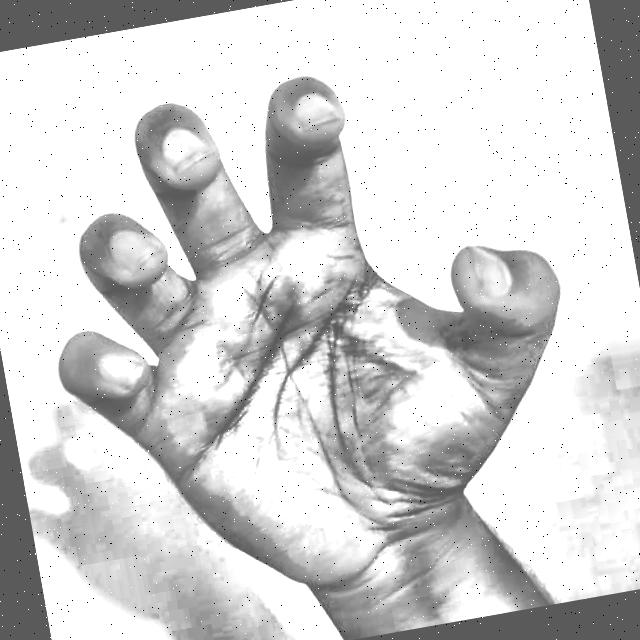Ja: (0, 0, 629, 640)
